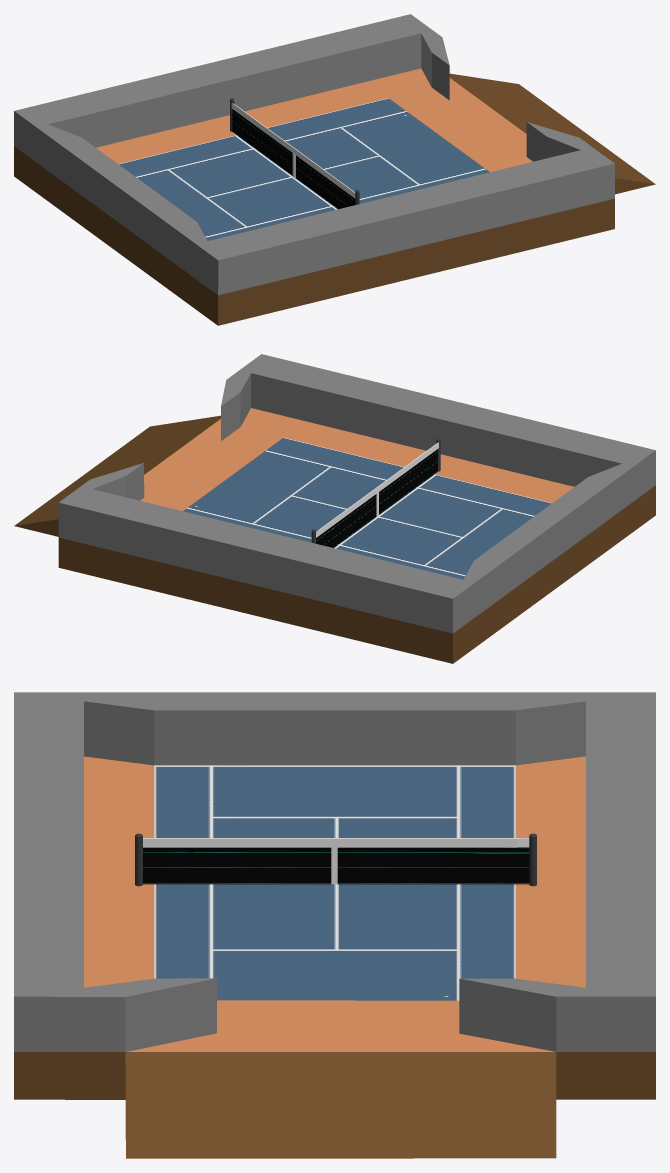
The model's file is tenis prototipo 1.fbx.
The picture shows the model from 3 angles, top to bottom: view 1: azimuth 30°, elevation 25°; view 2: azimuth 150°, elevation 25°; view 3: azimuth 270°, elevation 25°; orthographic projection. The views are drawn at different scales.
Visible parts, largest first — view 1: orange, court, red, top red; view 2: orange, court, red, top red; view 3: orange, court, red, top red.
Part boxes in pixels (x1,y1,x2,y2): orange: (14, 14, 655, 325); court: (118, 98, 489, 240); red: (232, 109, 355, 209); top red: (231, 103, 355, 198); orange: (14, 354, 655, 663); court: (183, 437, 551, 579); red: (316, 449, 437, 547); top red: (316, 442, 438, 537); orange: (14, 692, 655, 1158); court: (154, 765, 515, 1000); red: (143, 847, 529, 884); top red: (143, 838, 529, 847).
Bounding box in the file's own units: 1893 × 252 × 1414.
